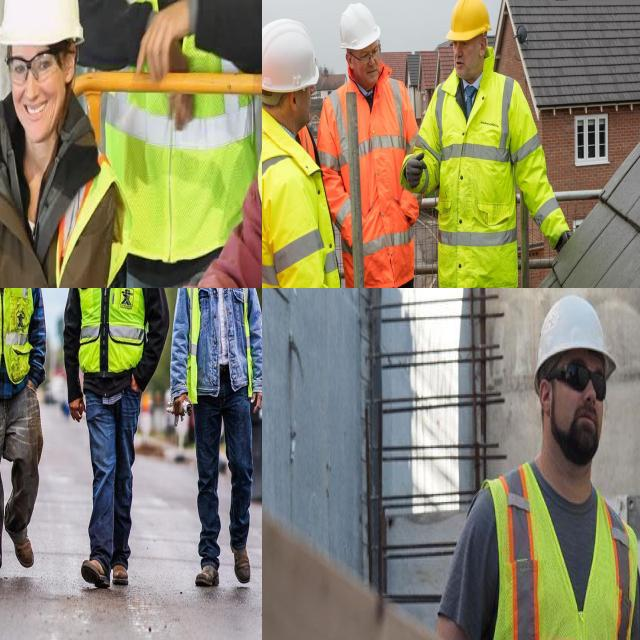No_Ear-Protection: (63, 42, 77, 89), (537, 378, 554, 414)
face_nomask: (545, 362, 612, 482), (4, 44, 73, 134), (292, 83, 326, 132), (356, 35, 383, 94), (450, 42, 484, 83)
glasses: (4, 40, 61, 86), (562, 354, 608, 403), (356, 44, 384, 66)
hand_glove: (406, 154, 432, 202)
hand_noglove: (135, 0, 195, 90), (66, 392, 90, 427), (169, 392, 189, 424), (251, 384, 262, 414)
head_helmet: (522, 290, 622, 389), (262, 16, 318, 94), (0, 0, 86, 47), (338, 1, 381, 52), (448, 0, 495, 43)
person: (426, 288, 640, 640), (84, 0, 262, 288), (419, 0, 578, 288), (321, 0, 450, 288), (0, 0, 117, 288), (58, 288, 162, 579), (170, 288, 262, 585), (262, 15, 347, 288), (0, 288, 48, 584)
shoes: (3, 508, 38, 575), (76, 550, 114, 593), (226, 532, 254, 588), (192, 558, 222, 590), (111, 557, 132, 590)
vest: (104, 0, 256, 248), (471, 459, 639, 640), (321, 79, 419, 284), (431, 67, 521, 288), (0, 131, 106, 288), (262, 115, 352, 288), (183, 288, 256, 402), (76, 288, 147, 376), (0, 288, 31, 383)
